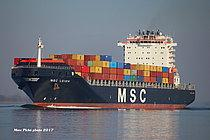Ship: (7, 25, 201, 113)
